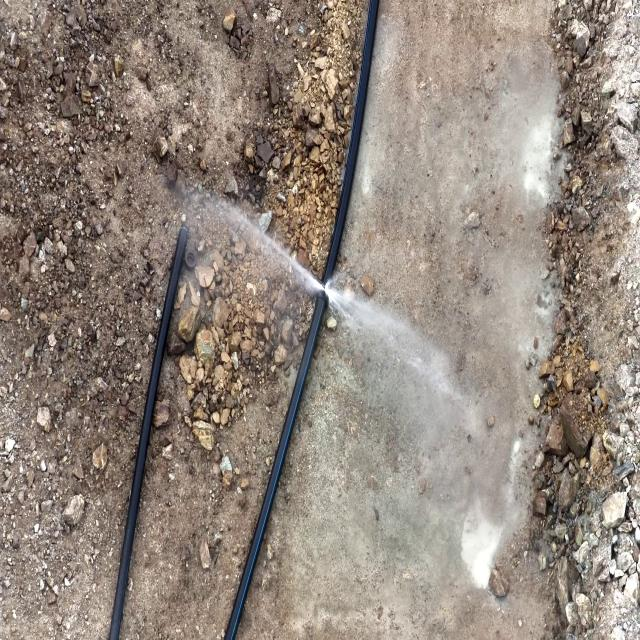leak: (219, 192, 374, 327)
